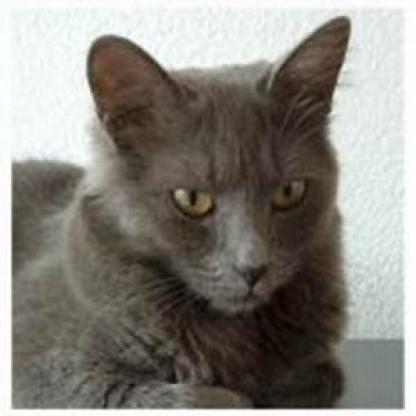cat: (14, 16, 353, 415)
